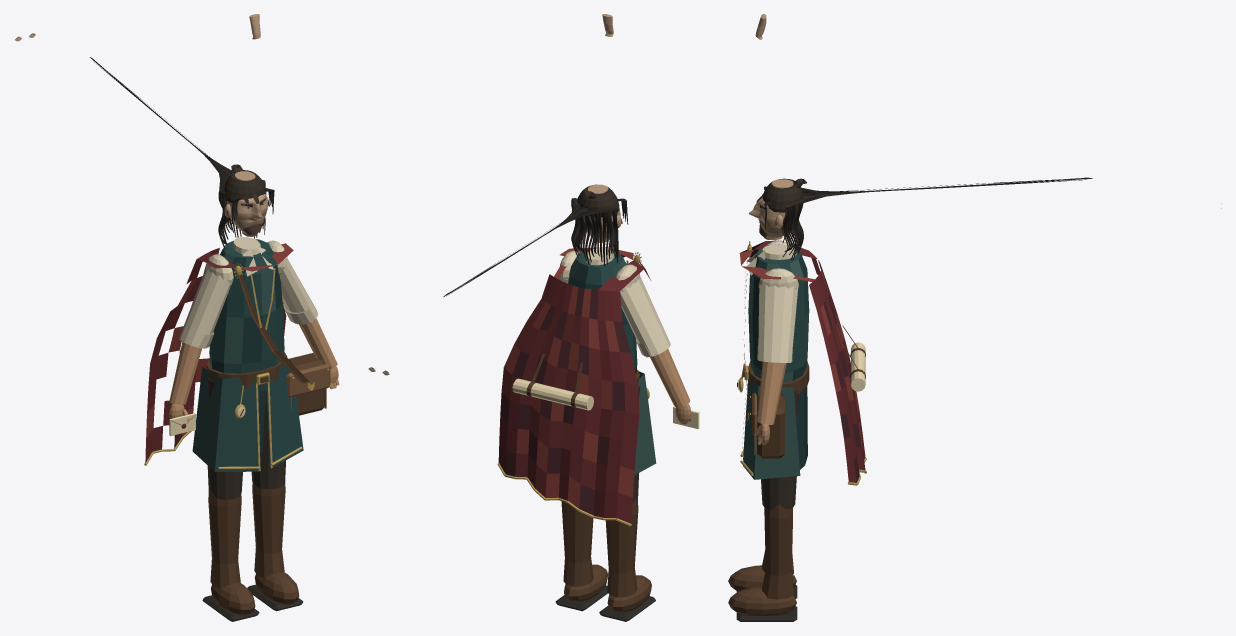
Rendered from courier.glb.
3 renders of one model, left to right at view 1: azimuth 30°, elevation 25°; view 2: azimuth 150°, elevation 25°; view 3: azimuth 270°, elevation 25°, orthographic.
Visible parts, largest first — view 1: Waistcoat, Split_coat_R, Cloak_folds, Boot_shaft_R, Boot_shaft_L, Split_coat_L, Linen_sleeve_R, Forearm_R, Trouser_thigh_L, Linen_sleeve_L, Face, Boot_toe_R (+9 smaller); view 2: Cloak_folds, Boot_shaft_R, Boot_shaft_L, Linen_sleeve_R, Waistcoat, Split_coat_R, Map_roll, Forearm_R, Boot_toe_L, Boot_toe_R, Hair_target_top, Boot_sole_R (+1 smaller); view 3: Cloak_folds, Waistcoat, Linen_sleeve_L, Boot_shaft_L, Split_coat_L, Boot_toe_L, Forearm_L, Trouser_thigh_L, Messenger_satchel, Face, Hair_target_top, Back_coat (+1 smaller).
Part boxes in pixels (bbox=[...]): Waistcoat: bbox=[209, 239, 284, 392]; Split_coat_R: bbox=[192, 367, 258, 471]; Cloak_folds: bbox=[145, 243, 293, 463]; Boot_shaft_R: bbox=[208, 490, 241, 588]; Boot_shaft_L: bbox=[252, 481, 285, 577]; Split_coat_L: bbox=[266, 358, 303, 468]; Linen_sleeve_R: bbox=[179, 267, 231, 348]; Forearm_R: bbox=[169, 342, 201, 404]; Trouser_thigh_L: bbox=[251, 392, 285, 489]; Linen_sleeve_L: bbox=[279, 258, 318, 324]; Face: bbox=[227, 171, 267, 236]; Boot_toe_R: bbox=[211, 582, 255, 615]; Cloak_folds: bbox=[498, 247, 650, 523]; Boot_shaft_R: bbox=[605, 499, 638, 597]; Boot_shaft_L: bbox=[561, 501, 593, 586]; Linen_sleeve_R: bbox=[620, 276, 670, 357]; Waistcoat: bbox=[568, 249, 637, 374]; Split_coat_R: bbox=[634, 371, 656, 475]; Map_roll: bbox=[512, 378, 593, 410]; Forearm_R: bbox=[650, 348, 690, 407]; Boot_toe_L: bbox=[564, 564, 608, 601]; Boot_toe_R: bbox=[607, 575, 651, 612]; Hair_target_top: bbox=[577, 185, 619, 217]; Boot_sole_R: bbox=[599, 596, 655, 621]; Cloak_folds: bbox=[739, 240, 865, 482]; Waistcoat: bbox=[748, 244, 809, 382]; Linen_sleeve_L: bbox=[758, 284, 798, 362]; Boot_shaft_L: bbox=[762, 504, 793, 599]; Split_coat_L: bbox=[743, 372, 800, 479]; Boot_toe_L: bbox=[728, 586, 796, 616]; Forearm_L: bbox=[757, 361, 786, 424]; Trouser_thigh_L: bbox=[761, 390, 798, 509]; Messenger_satchel: bbox=[757, 394, 784, 458]; Face: bbox=[749, 179, 793, 240]; Hair_target_top: bbox=[763, 178, 802, 212]; Back_coat: bbox=[795, 386, 807, 469].
Bounding box in the file's own units: 0.7395 × 2.41 × 1.83.
